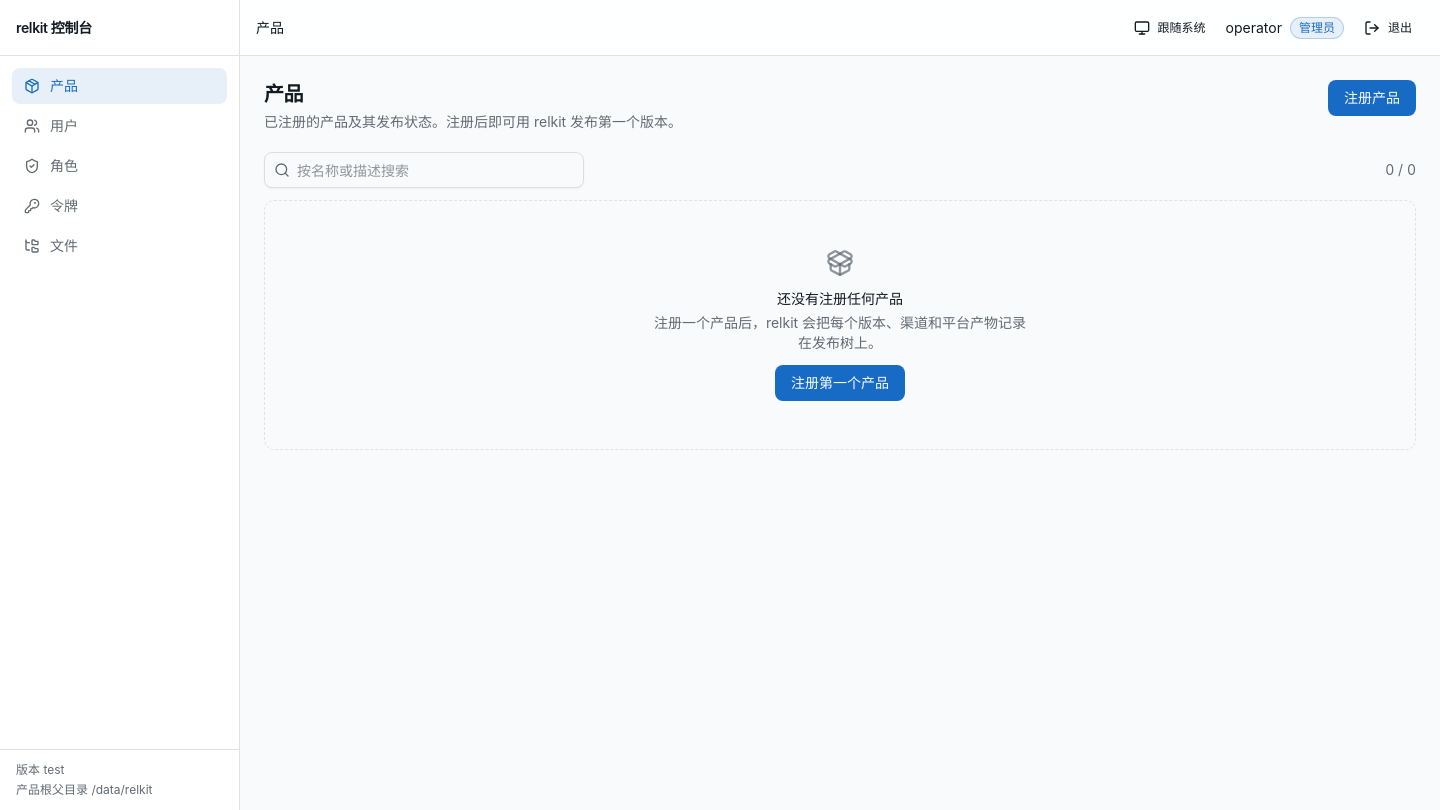
Scenario: navigation › navigates from products to users through the sidebar
Click the link "用户" at (51, 126), box top-left (24, 117), bottom-right (78, 134)
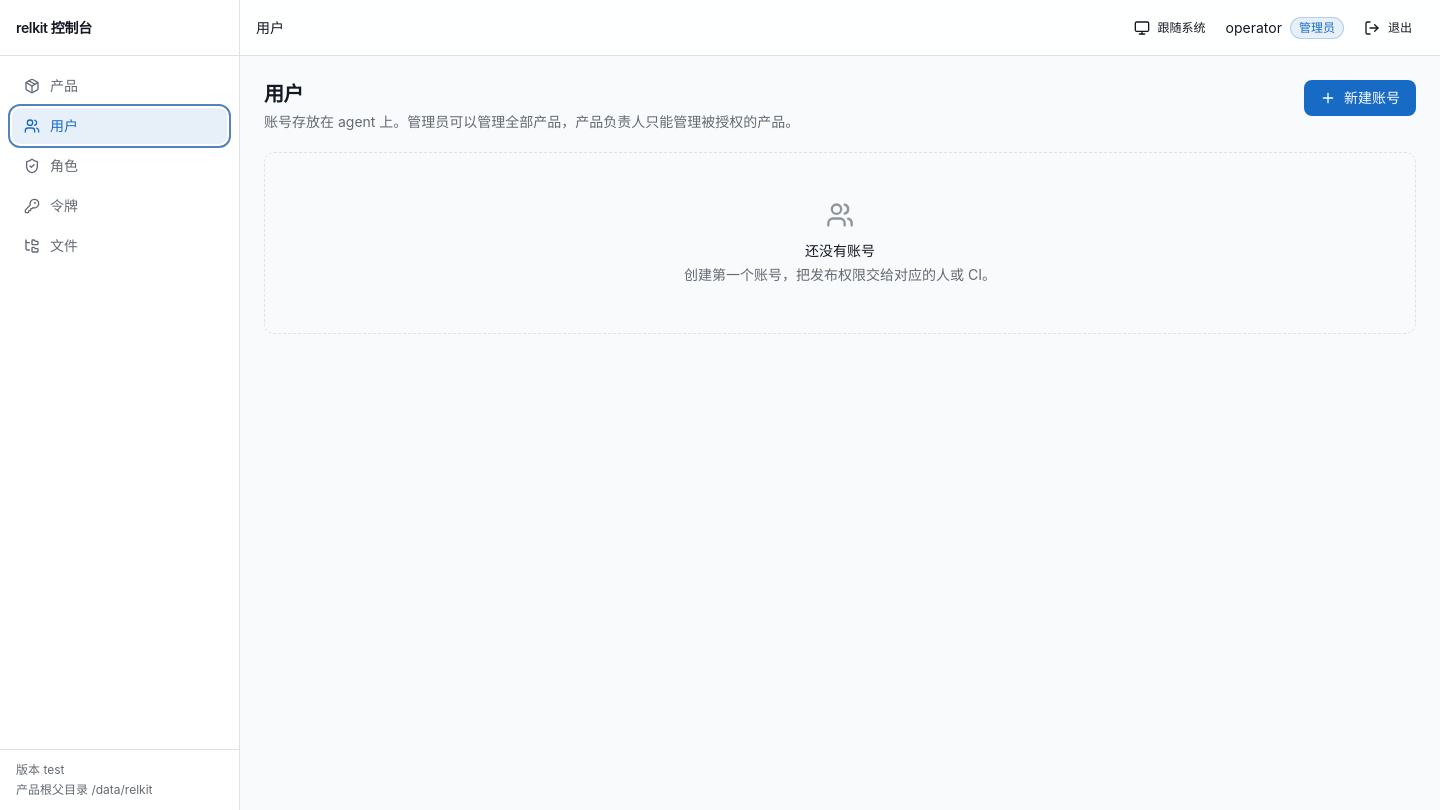
Check: the text "还没有账号" is shown, box top-left (805, 242), bottom-right (875, 259)
